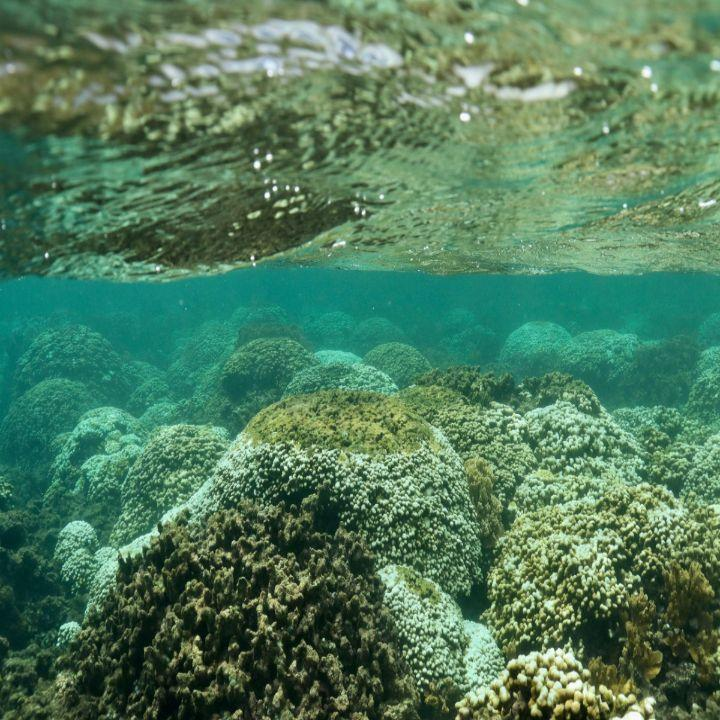Band disease: (51, 367, 682, 619)
